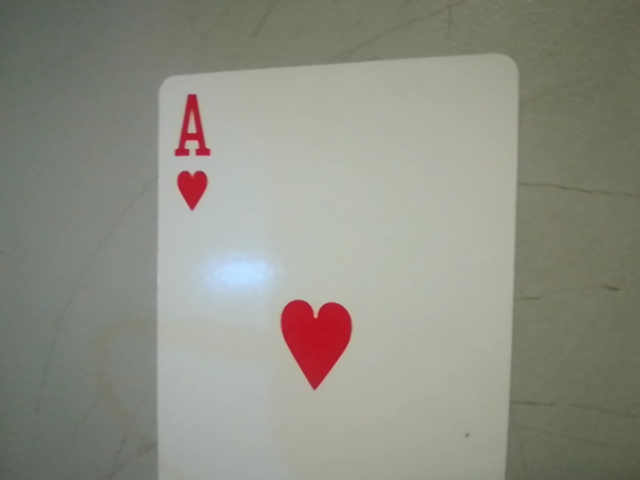hx a: (158, 87, 224, 221)
